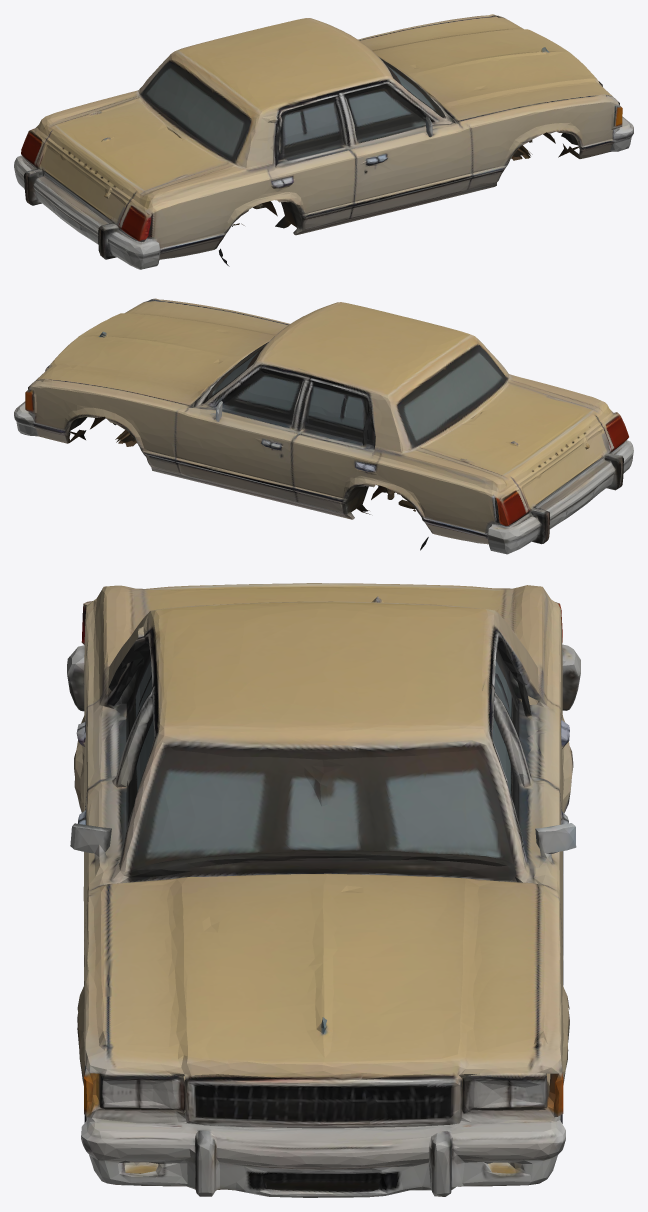
The model's file is body.glb.
3 renders of one model, top to bottom at view 1: azimuth 30°, elevation 25°; view 2: azimuth 150°, elevation 25°; view 3: azimuth 270°, elevation 25°, orthographic. The views are drawn at different scales.
Visible parts, largest first — view 1: tripo_node_4a4c65e0-4e61-42f5-8e39-b389602a00a0; view 2: tripo_node_4a4c65e0-4e61-42f5-8e39-b389602a00a0; view 3: tripo_node_4a4c65e0-4e61-42f5-8e39-b389602a00a0.
Boxes of the visible parts, box(x1,y1,x2,y2) form: tripo_node_4a4c65e0-4e61-42f5-8e39-b389602a00a0: box(14, 14, 633, 269); tripo_node_4a4c65e0-4e61-42f5-8e39-b389602a00a0: box(14, 298, 633, 554); tripo_node_4a4c65e0-4e61-42f5-8e39-b389602a00a0: box(67, 583, 580, 1197).
Size of the model in its own units: 5.2 by 1.38 by 2.2.
1 material, 1 textured.
